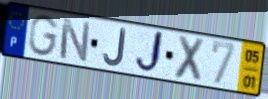7: (209, 39, 239, 88)
G: (28, 14, 61, 58)
J: (133, 29, 166, 77), (102, 26, 128, 68)
N: (58, 16, 92, 65)
X: (172, 33, 207, 85)
